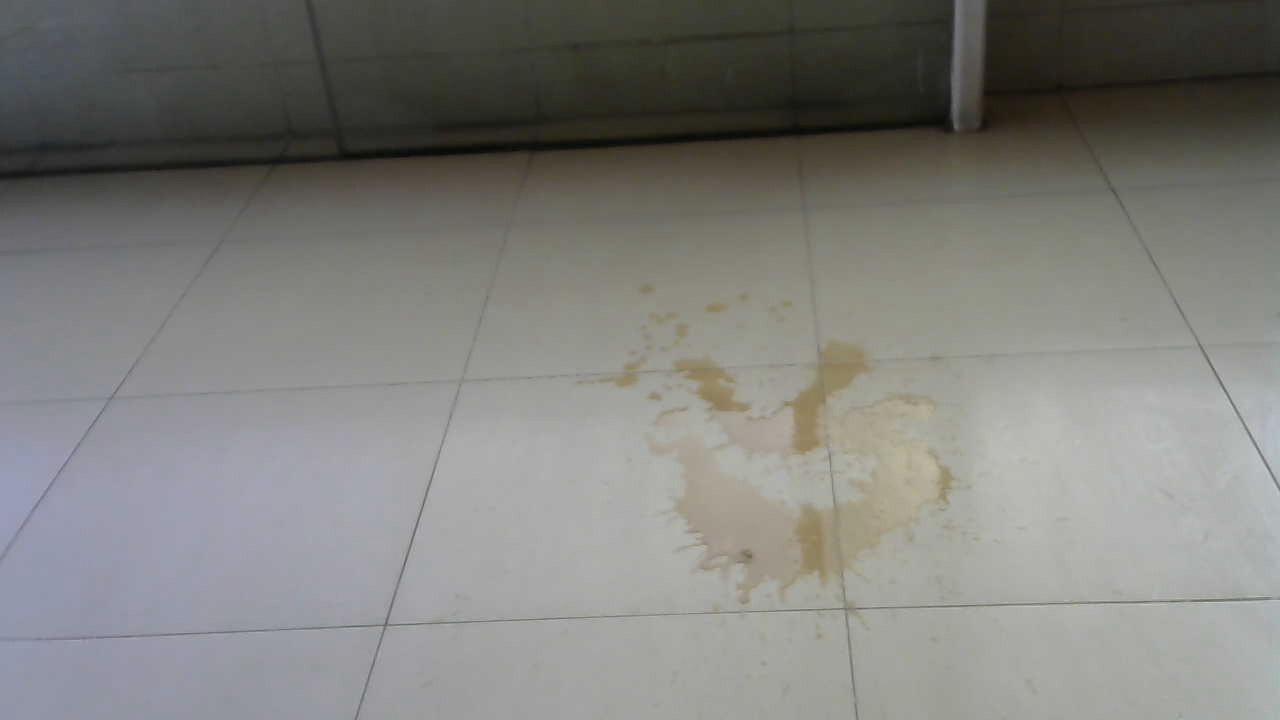dirty_floor: (624, 266, 987, 601)
